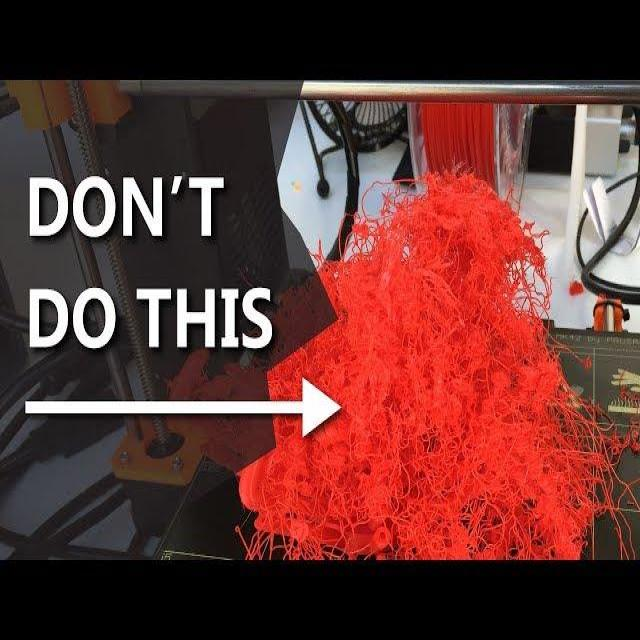Spaghetti: (235, 164, 604, 569)
